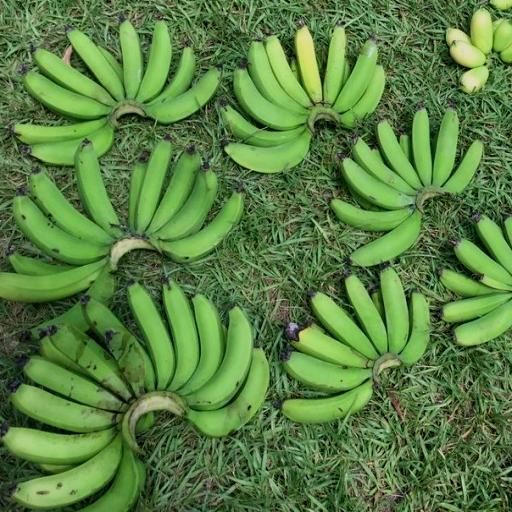banana-unripe: (0, 284, 280, 512)
